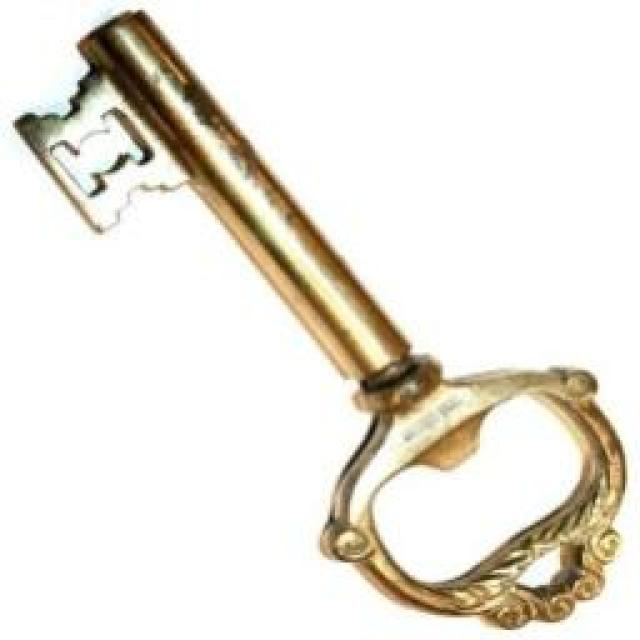anahtar: (9, 4, 632, 634)
